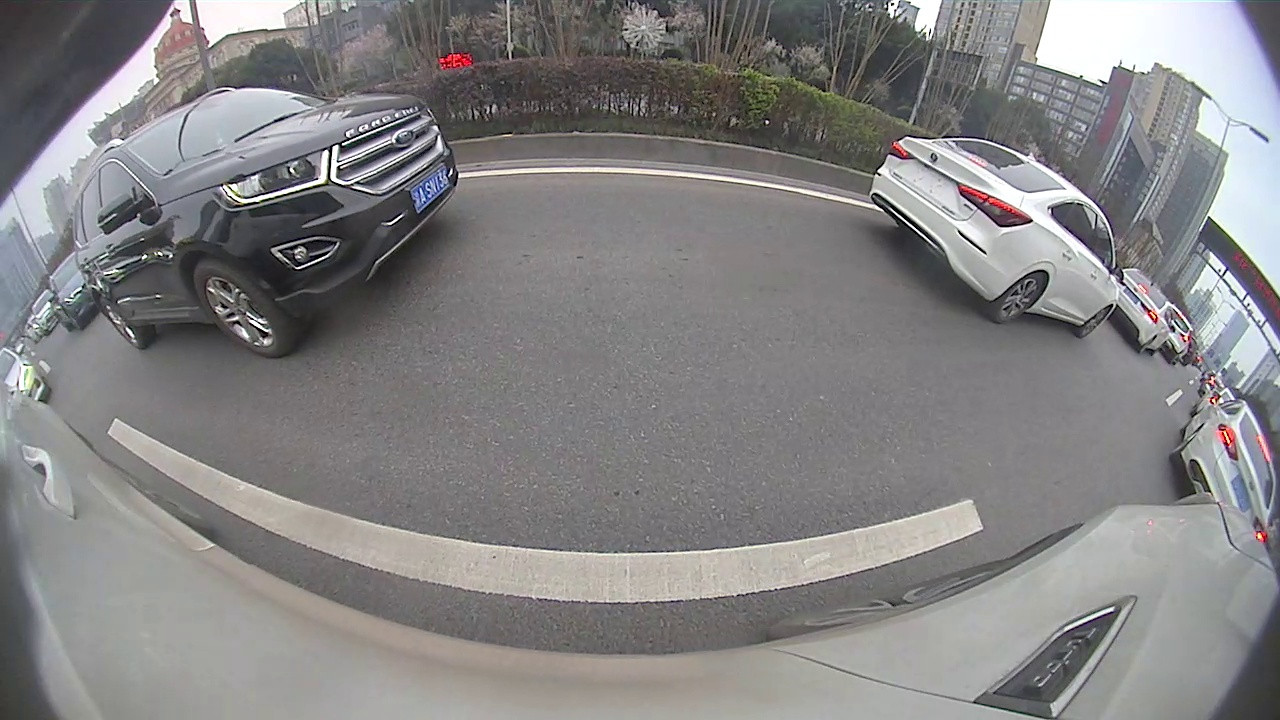car: (71, 84, 462, 360), (870, 135, 1126, 340), (1166, 394, 1277, 540), (1115, 265, 1179, 354), (46, 247, 102, 331)
front: (192, 262, 291, 359), (1079, 306, 1112, 339)
rear: (990, 270, 1050, 325), (99, 297, 146, 349)
